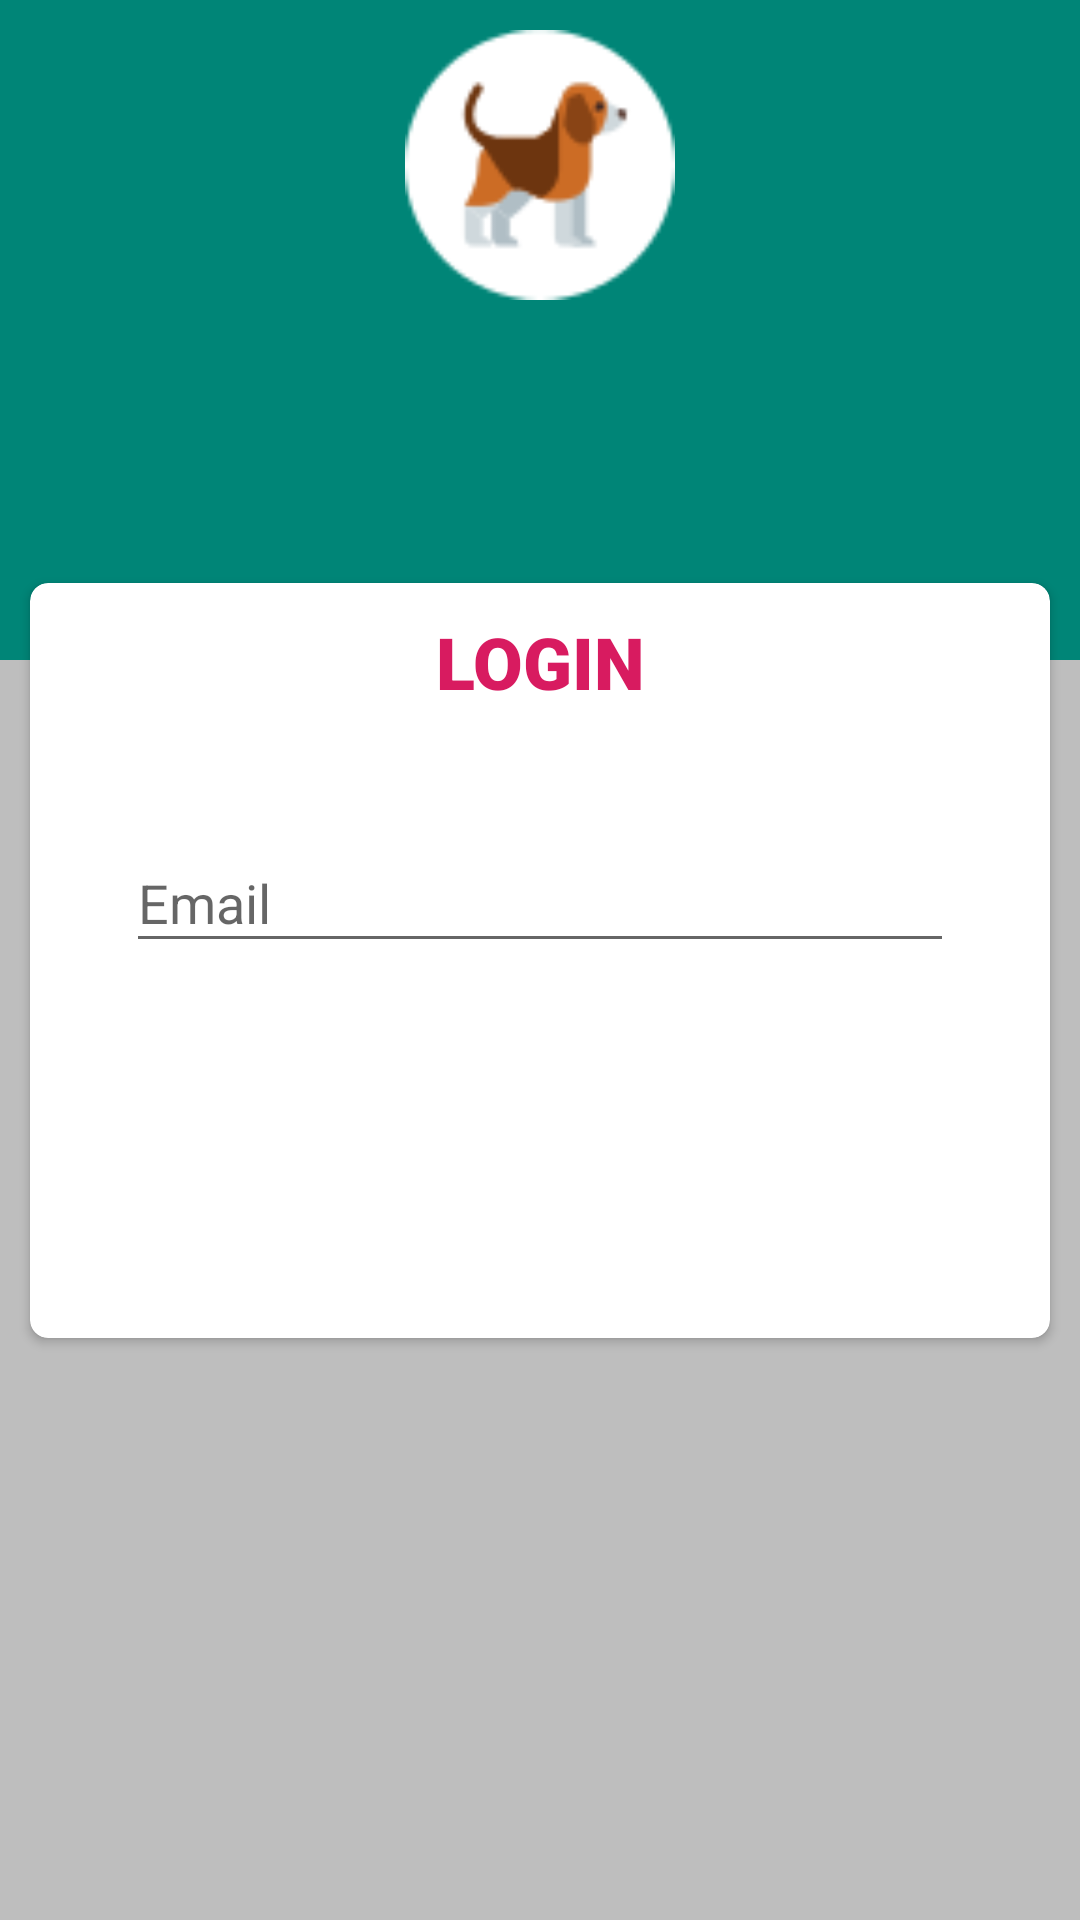

Screen size 1080 × 1920. Icon name, then its box in pixels as Rect(x1, y1, x2, y2):
dog: Rect(405, 30, 675, 300)
